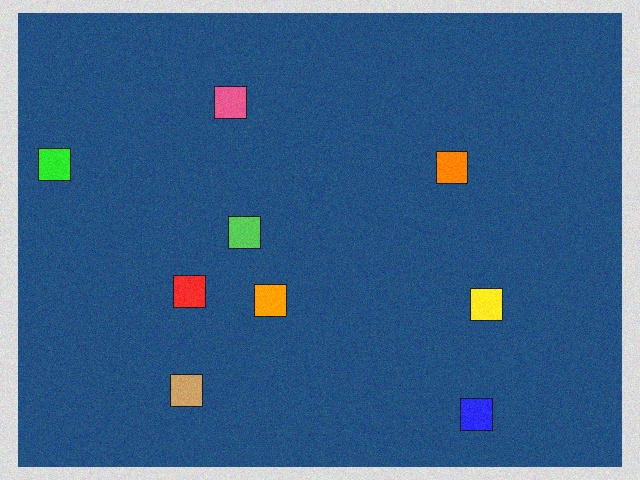block: (453, 390, 493, 431), (38, 148, 84, 183), (170, 367, 209, 407), (463, 286, 503, 320), (215, 87, 250, 125), (430, 151, 468, 186), (173, 274, 211, 308), (255, 282, 289, 316), (229, 217, 264, 248)
